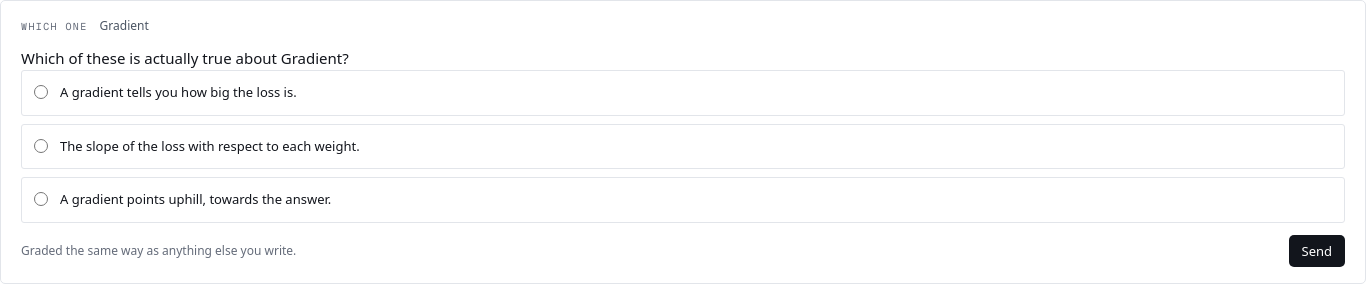
Test: the quiz card › says what is missing rather than disabling itself when nothing is chosen
This screenshot has width=1366, height=301.
Click the button "Send" at (1317, 251), box [1288, 235, 1345, 267]
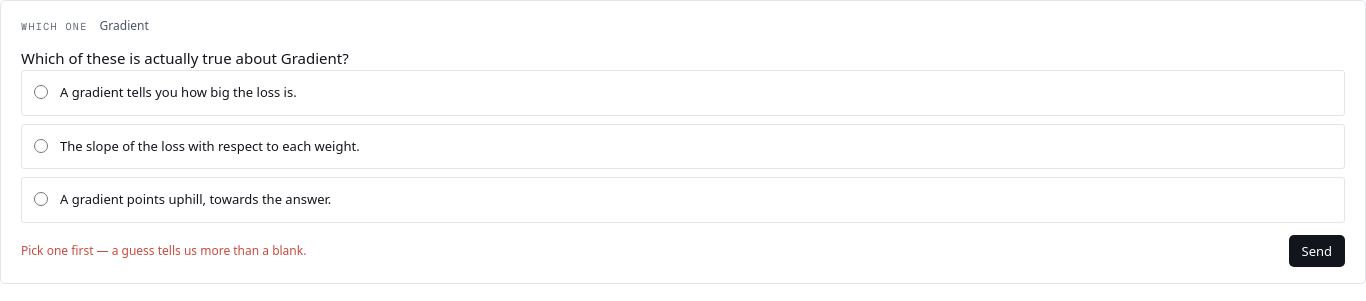
expect the message shows "Pick one": met, box [21, 242, 306, 259]
